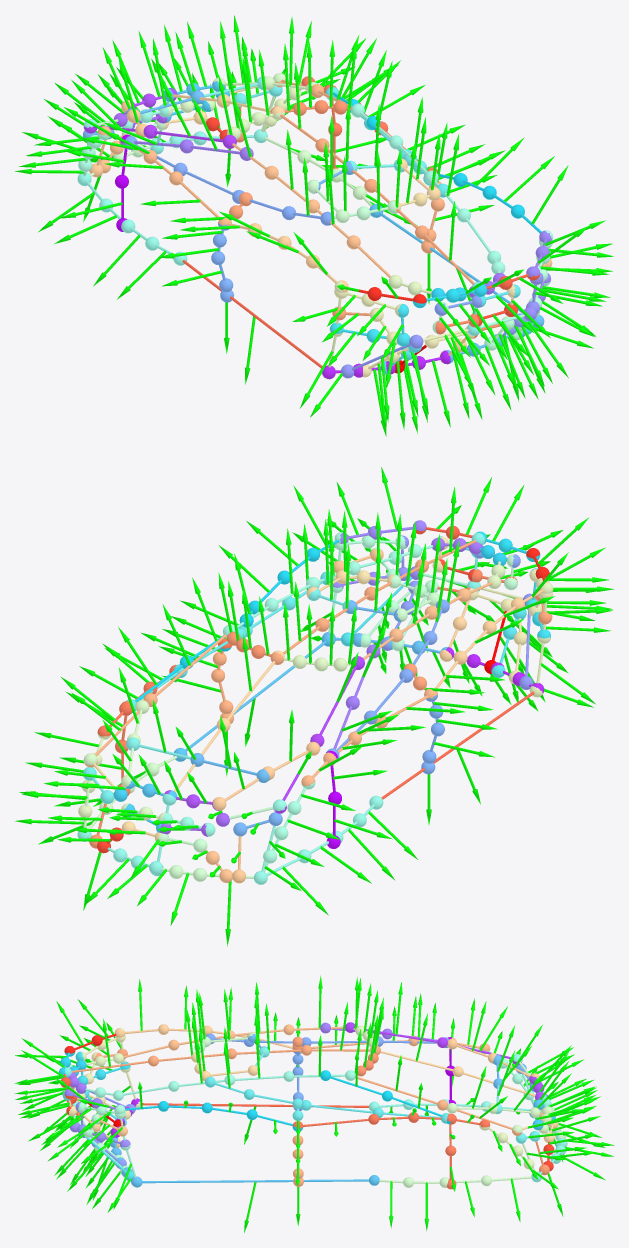
The model's file is ils_car3.gltf.
3 renders of one model, top to bottom at view 1: azimuth 30°, elevation 25°; view 2: azimuth 150°, elevation 25°; view 3: azimuth 270°, elevation 25°, orthographic. The views are drawn at different scales.
Bounding box in the file's own units: 0.5541 × 0.3823 × 1.1.
